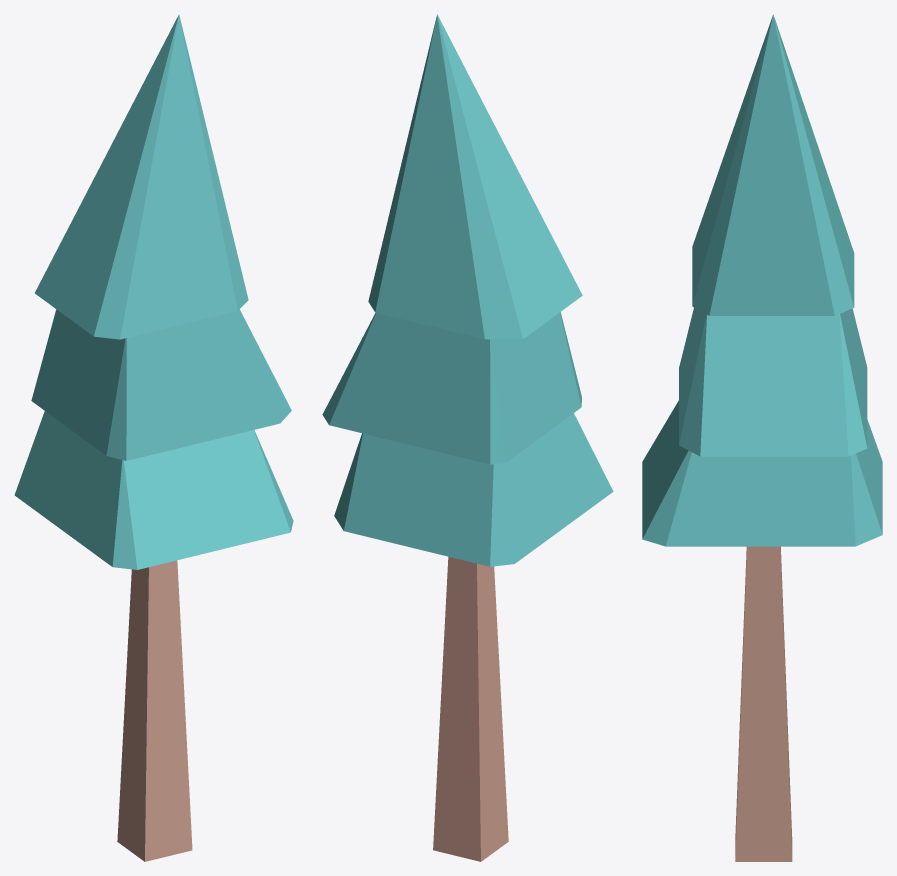
File: tree_pineTallA.glb
The picture shows the model from 3 angles, left to right: view 1: azimuth 30°, elevation 25°; view 2: azimuth 150°, elevation 25°; view 3: azimuth 270°, elevation 25°; orthographic projection. The views are drawn at different scales.
Visible parts, largest first — view 1: tree_pineTallA; view 2: tree_pineTallA; view 3: tree_pineTallA.
Boxes of the visible parts, x1,y1,x2,y2 form: tree_pineTallA: (14,14,293,861); tree_pineTallA: (322,14,613,861); tree_pineTallA: (642,14,882,861).
Size of the model in its own units: 0.3863 by 1.53 by 0.392.
